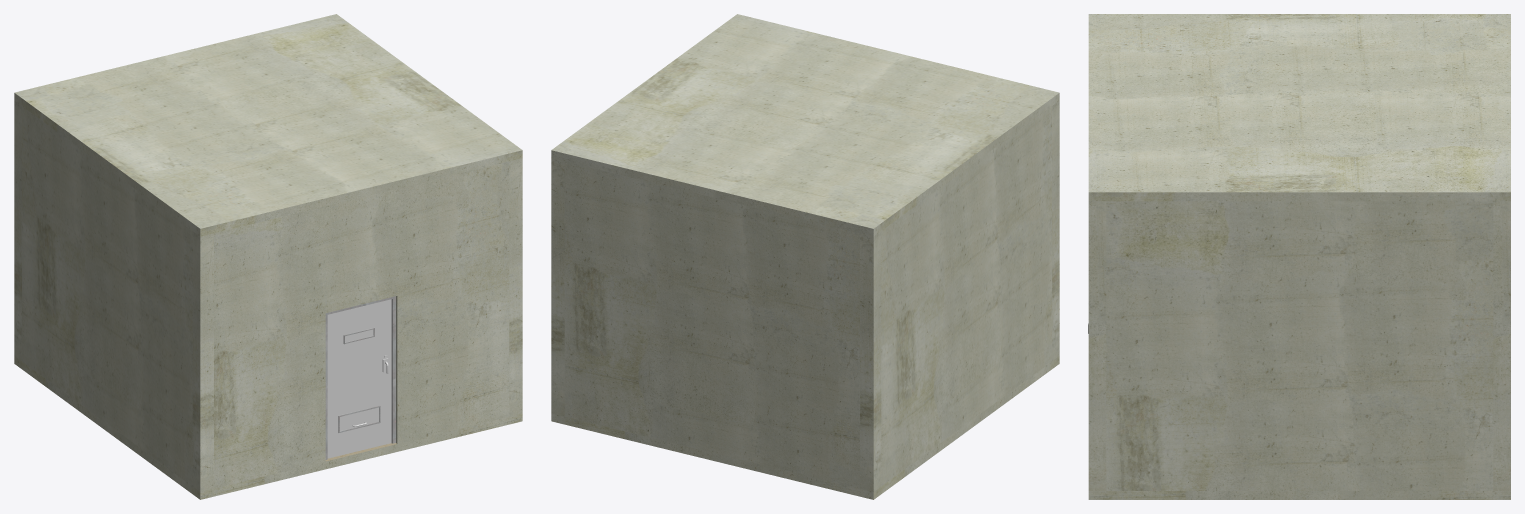
The model's file is PaddedCell.fbx.
3 views of the same model, side by side, from view 1: azimuth 30°, elevation 25°; view 2: azimuth 150°, elevation 25°; view 3: azimuth 270°, elevation 25° (orthographic). The views are drawn at different scales.
Visible parts, largest first — view 1: Wall.035, Wall.031, Wall.034, Cube.002, Wall.038, Wall.040, Wall.039, Wall.036, Door.001; view 2: Wall.032, Wall.031, Wall.034, Wall.036, Wall.040, Wall.037, Wall.038; view 3: Wall.033, Wall.031, Wall.039, Wall.037, Wall.040.
Part boxes in pixels (<box>): Wall.035: <box>214,161,509,488</box>; Wall.031: <box>14,14,522,236</box>; Wall.034: <box>22,106,192,485</box>; Cube.002: <box>327,299,391,458</box>; Wall.038: <box>192,231,213,491</box>; Wall.040: <box>14,356,522,499</box>; Wall.039: <box>509,158,522,416</box>; Wall.036: <box>14,101,21,360</box>; Door.001: <box>325,296,395,459</box>; Wall.032: <box>564,161,859,488</box>; Wall.031: <box>551,14,1059,236</box>; Wall.034: <box>881,106,1051,485</box>; Wall.036: <box>860,231,881,491</box>; Wall.040: <box>551,356,1059,499</box>; Wall.037: <box>551,158,564,416</box>; Wall.038: <box>1052,101,1059,360</box>; Wall.033: <box>1106,201,1493,490</box>; Wall.031: <box>1088,14,1510,201</box>; Wall.039: <box>1088,201,1106,490</box>; Wall.037: <box>1493,201,1510,490</box>; Wall.040: <box>1088,491,1510,499</box>.
Bounding box in the file's own units: 102 × 82.29 × 103.
Materials: 11 (7 with a texture image).
